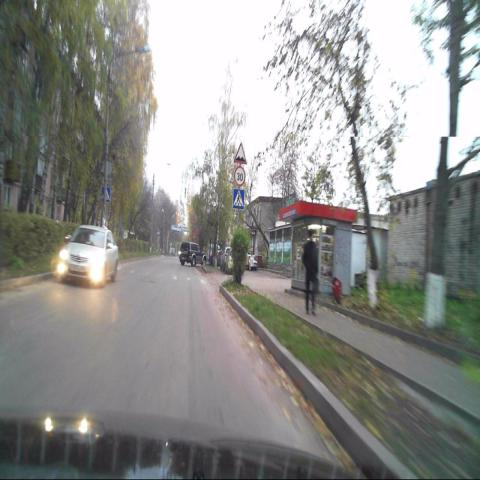1_16: (234, 142, 246, 164)
